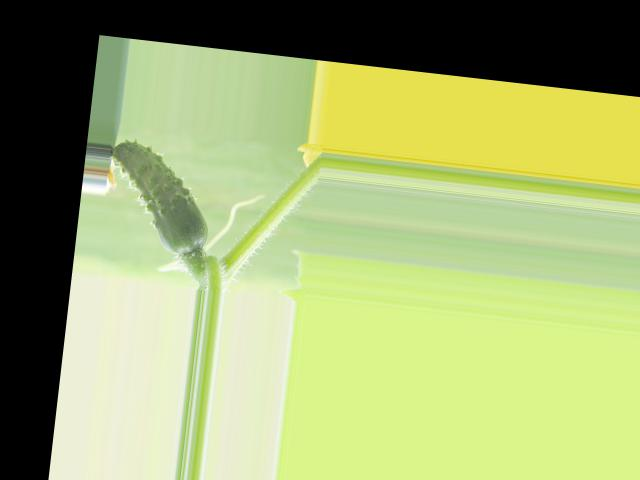cucumber: (102, 138, 219, 256)
